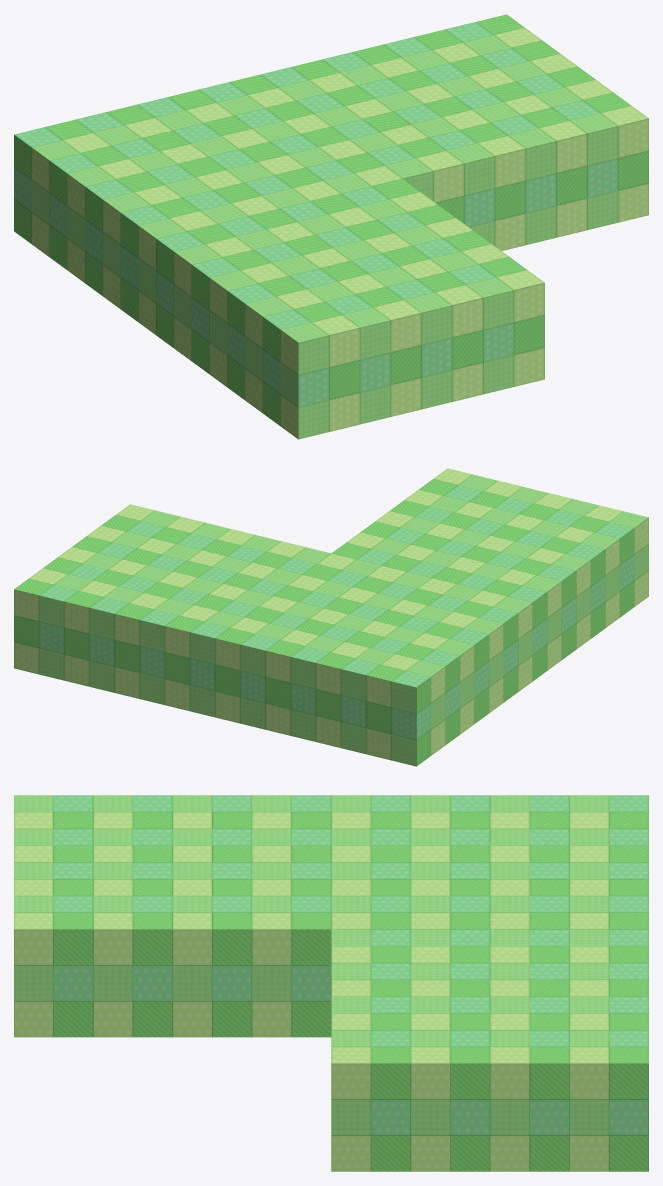
The model's file is platform_003.FBX.
3 views of the same model, one above another, from view 1: azimuth 30°, elevation 25°; view 2: azimuth 150°, elevation 25°; view 3: azimuth 270°, elevation 25° (orthographic). The views are drawn at different scales.
Parts seen in each view (by area): view 1: platform_003; view 2: platform_003; view 3: platform_003.
Part boxes in pixels (x1,y1,x2,y2): platform_003: (14,14,648,439); platform_003: (14,468,648,766); platform_003: (14,795,648,1171).
Bounding box in the file's own units: 1600 × 300 × 1600.
